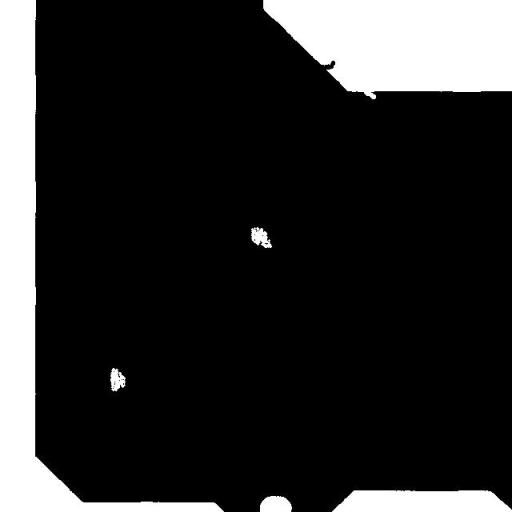mousebite: (356, 84, 383, 106)
pin-hole: (243, 219, 279, 255), (102, 360, 133, 398)
spur: (313, 52, 342, 78)
